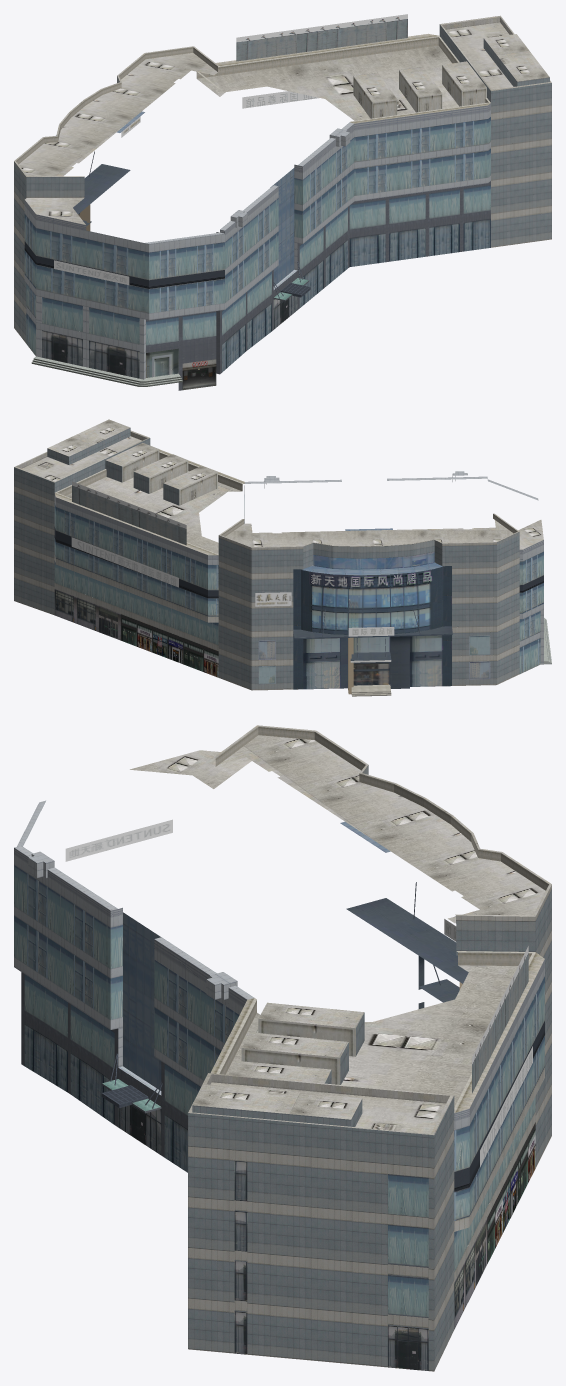
File: fazhan1.gltf
3 renders of one model, top to bottom at view 1: azimuth 30°, elevation 25°; view 2: azimuth 150°, elevation 25°; view 3: azimuth 270°, elevation 25°, orthographic. The views are drawn at different scales.
Parts seen in each view (by area): view 1: Node; view 2: Node; view 3: Node.
Part boxes in pixels (bbox=[...]): Node: bbox=[14, 14, 551, 390]; Node: bbox=[14, 419, 551, 696]; Node: bbox=[14, 725, 551, 1371].
Size of the model in its own units: 87.91 by 27.66 by 49.42.
Materials: 39 (39 with a texture image).
